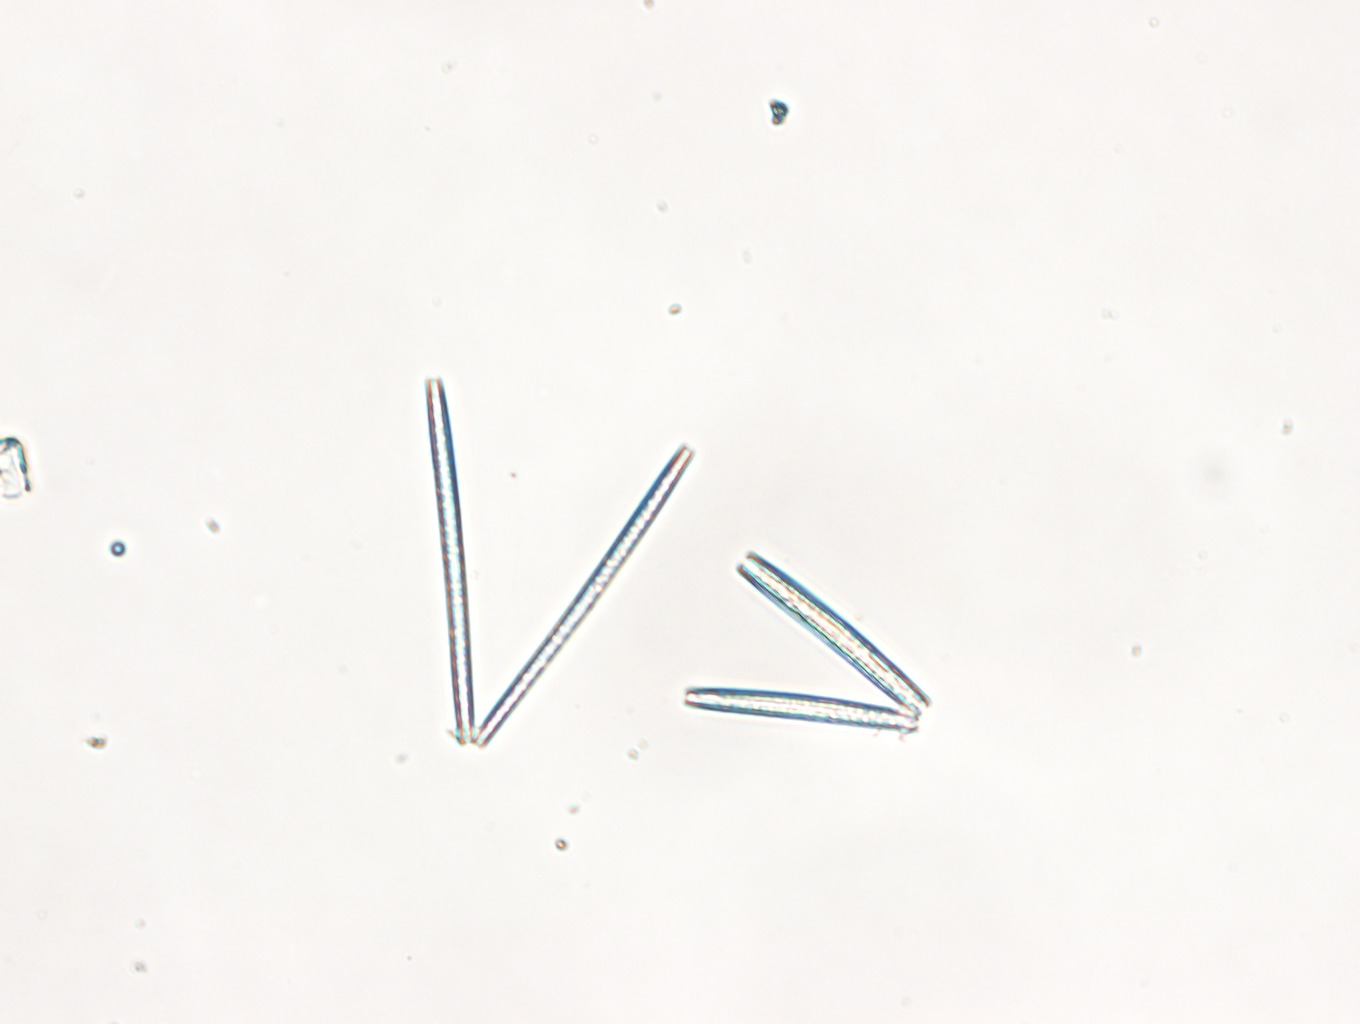thalassionema frauenfeldii: (423, 376, 693, 750)
thalassionema nitzschioides: (686, 547, 936, 730)
